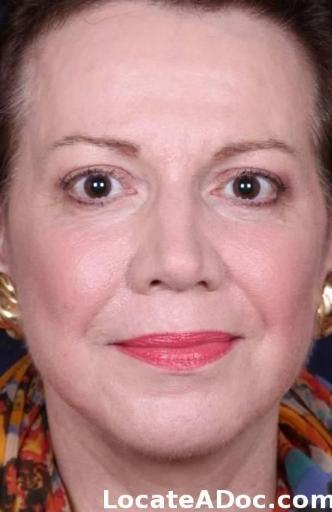left_eye: (206, 173, 288, 217)
left_lip_corner: (233, 329, 250, 349)
right_eye: (57, 173, 138, 217)
right_lip_corner: (103, 332, 132, 358)
